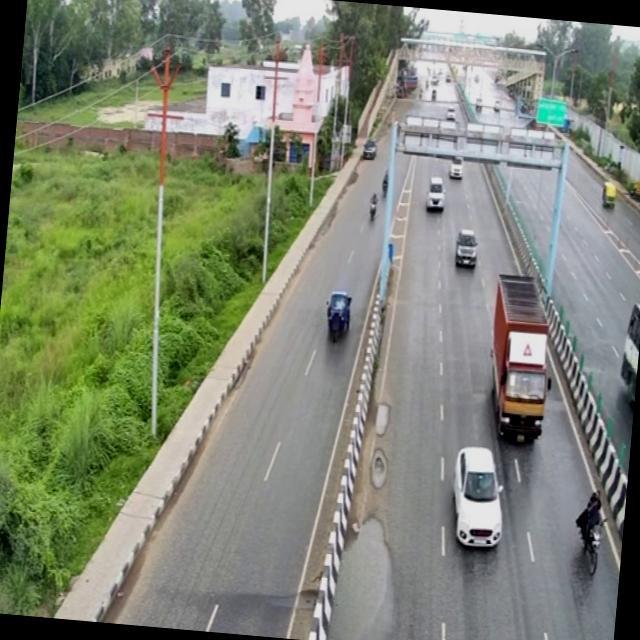car: (395, 327, 482, 418), (220, 201, 272, 252), (388, 163, 435, 204), (348, 124, 387, 158)
